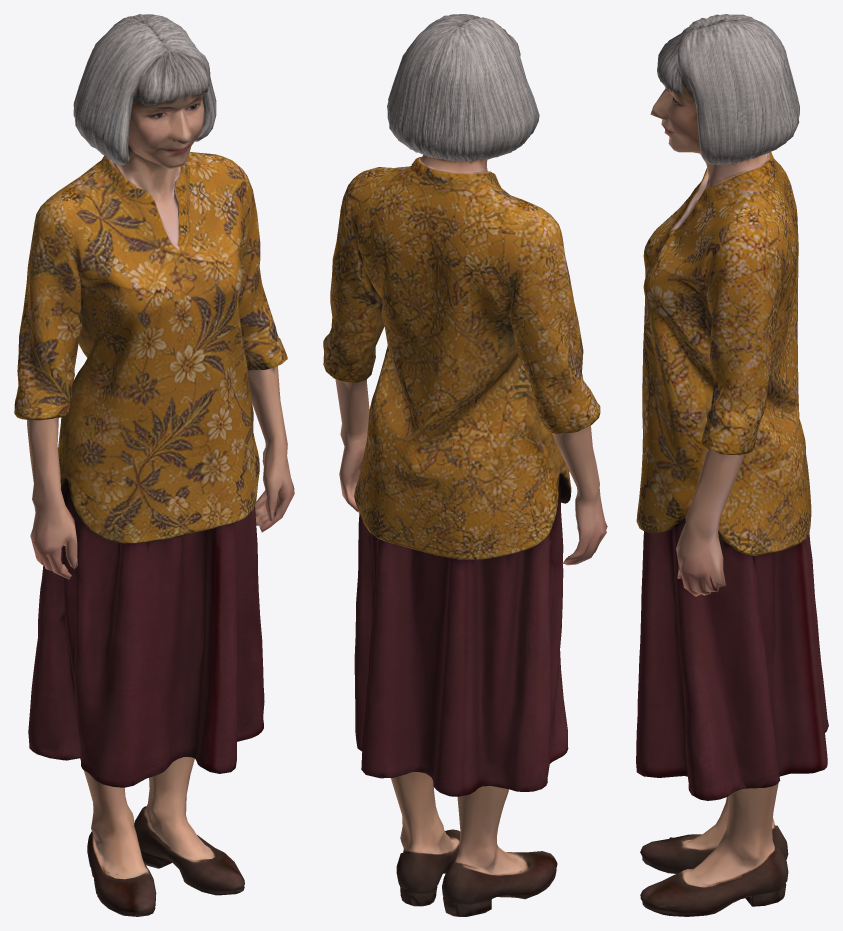
File: banyanCloth.glb
3 views of the same model, side by side, from view 1: azimuth 30°, elevation 25°; view 2: azimuth 150°, elevation 25°; view 3: azimuth 270°, elevation 25° (orthographic).
Visible parts, largest first — view 1: tripo_node_04fb70cd-463c-4720-9ac3-e8a879d8a838, banyanCloth articulation; view 2: tripo_node_04fb70cd-463c-4720-9ac3-e8a879d8a838; view 3: tripo_node_04fb70cd-463c-4720-9ac3-e8a879d8a838, banyanCloth articulation.
Boxes of the visible parts, x1,y1,x2,y2 form: tripo_node_04fb70cd-463c-4720-9ac3-e8a879d8a838: (14,14,294,916); banyanCloth articulation: (105,55,213,184); tripo_node_04fb70cd-463c-4720-9ac3-e8a879d8a838: (323,14,607,916); tripo_node_04fb70cd-463c-4720-9ac3-e8a879d8a838: (636,14,828,916); banyanCloth articulation: (650,40,709,178).
Bounding box in the file's own units: 0.3191 × 0.9793 × 0.1977.
2 materials, 1 textured.
